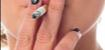Cigarette: (31, 4, 48, 20)
